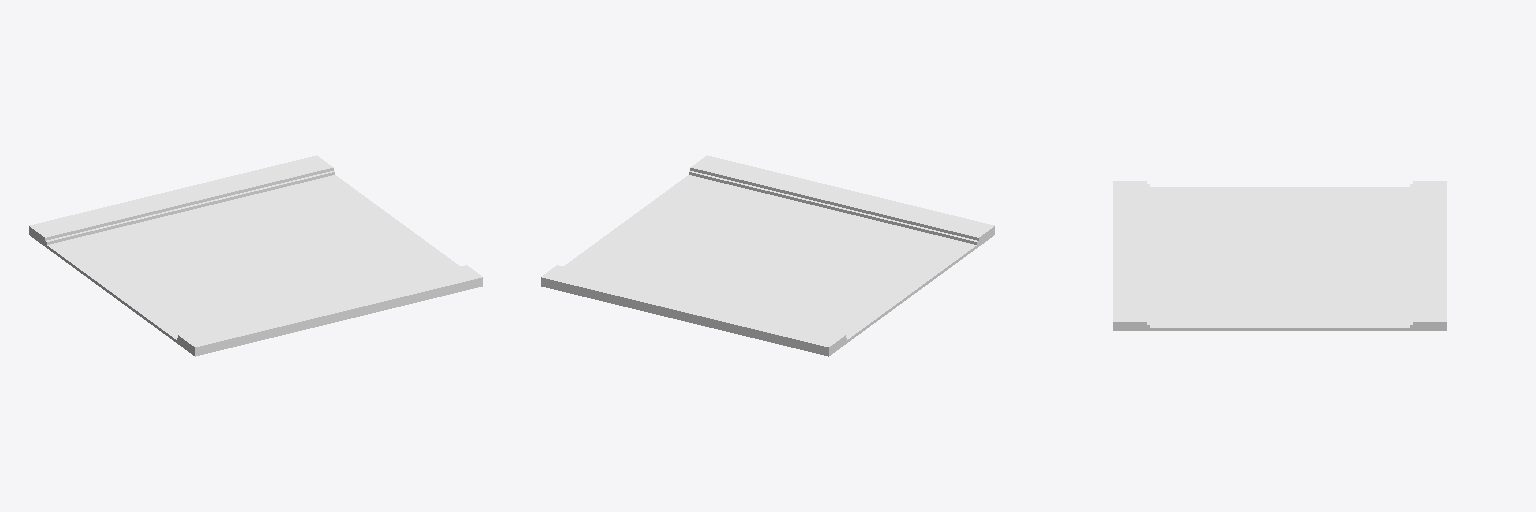
The model's file is Boulevard.obj.
The picture shows the model from 3 angles: view 1: azimuth 30°, elevation 25°; view 2: azimuth 150°, elevation 25°; view 3: azimuth 270°, elevation 25°; orthographic projection.
Visible parts, largest first — view 1: object 1; view 2: object 1; view 3: object 1.
Part boxes in pixels (x1,y1,x2,y2): object 1: (29, 155, 482, 356); object 1: (541, 155, 994, 356); object 1: (1113, 181, 1446, 330).
Bounding box in the file's own units: 10 × 0.3 × 10.